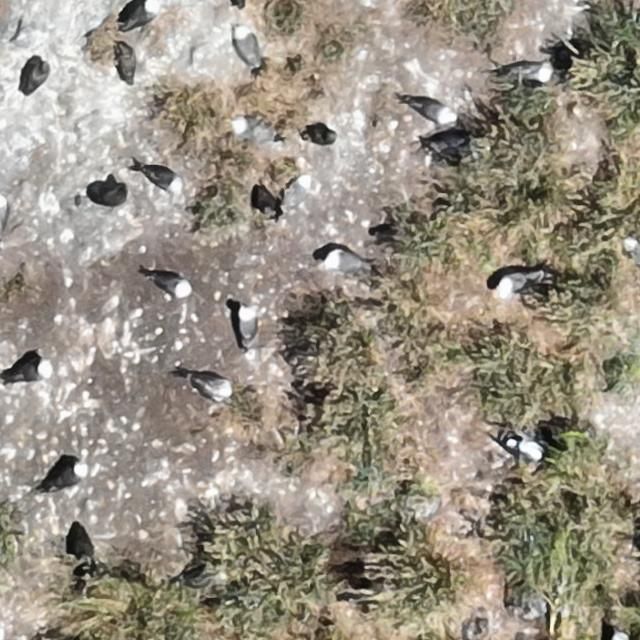umineko: (226, 117, 282, 144), (192, 376, 231, 399), (49, 465, 84, 489), (325, 252, 363, 274), (7, 361, 45, 382), (151, 274, 189, 294), (416, 101, 452, 122), (237, 32, 259, 66), (146, 168, 180, 189), (516, 65, 553, 83), (125, 4, 155, 26), (515, 438, 542, 462), (238, 305, 256, 341), (302, 127, 338, 145), (496, 273, 530, 292), (624, 236, 639, 262)
